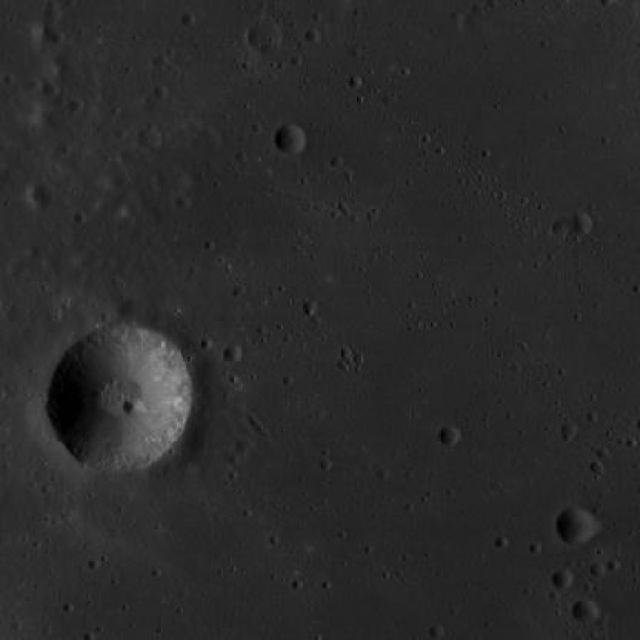crater: (52, 326, 196, 471), (560, 506, 598, 545), (250, 18, 286, 54), (276, 124, 307, 156), (120, 294, 148, 322), (576, 599, 601, 624), (441, 424, 464, 447), (554, 568, 576, 590), (139, 128, 161, 150), (224, 344, 244, 364), (574, 212, 594, 232), (554, 218, 574, 236), (122, 398, 140, 416), (47, 5, 64, 22), (238, 438, 255, 454), (564, 422, 581, 438)
